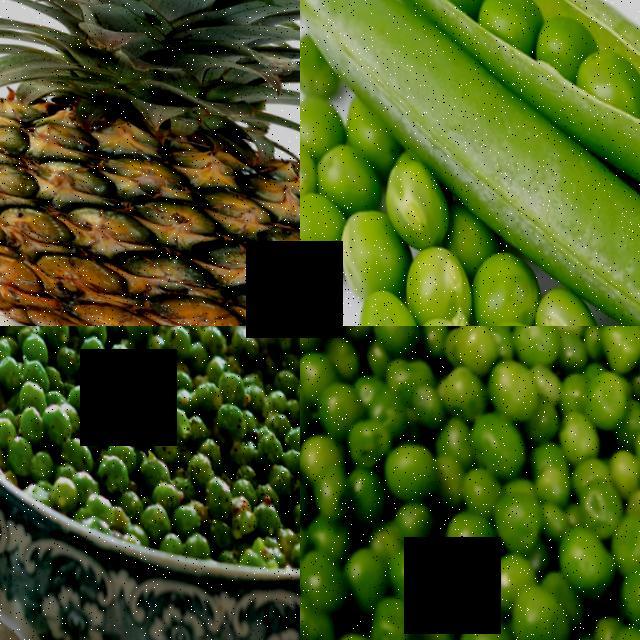peas: (300, 326, 640, 640), (0, 326, 251, 536), (300, 81, 488, 326), (414, 0, 640, 163), (202, 340, 300, 573), (426, 237, 640, 326), (0, 326, 39, 444)
pineapple: (0, 0, 300, 326)
